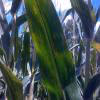Corn leaf blight: (23, 1, 75, 99), (0, 57, 25, 99)
